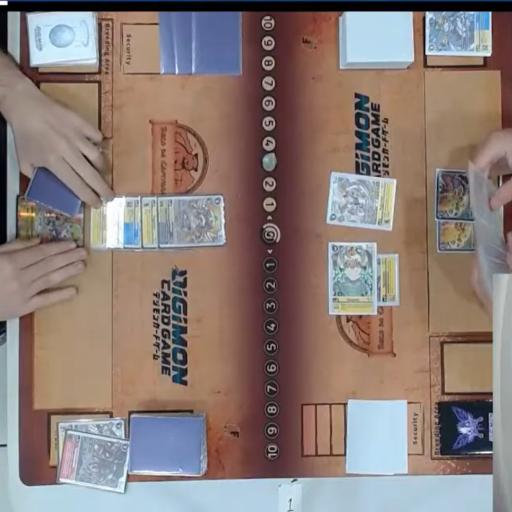card: (328, 170, 399, 230), (58, 434, 132, 491), (154, 193, 227, 250), (20, 194, 85, 256), (54, 418, 126, 468), (329, 245, 377, 317), (424, 10, 497, 56), (437, 169, 479, 221), (436, 218, 482, 256), (375, 251, 401, 308), (91, 190, 113, 250), (122, 196, 144, 255), (141, 193, 161, 253), (107, 196, 123, 249)
